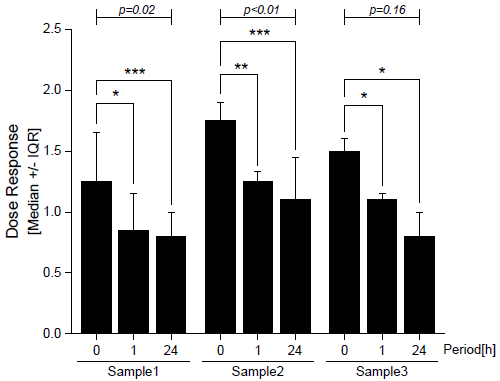OK_NoIssue: (5, 5, 445, 377)
